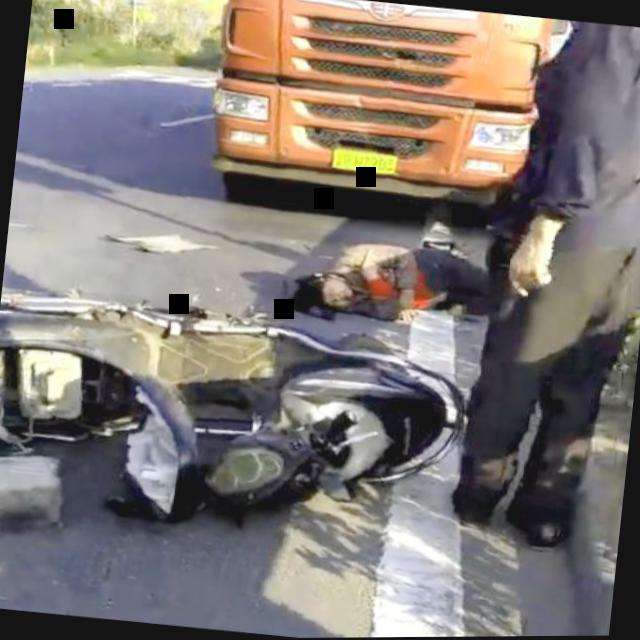Fall-Detected: (275, 211, 499, 339)
